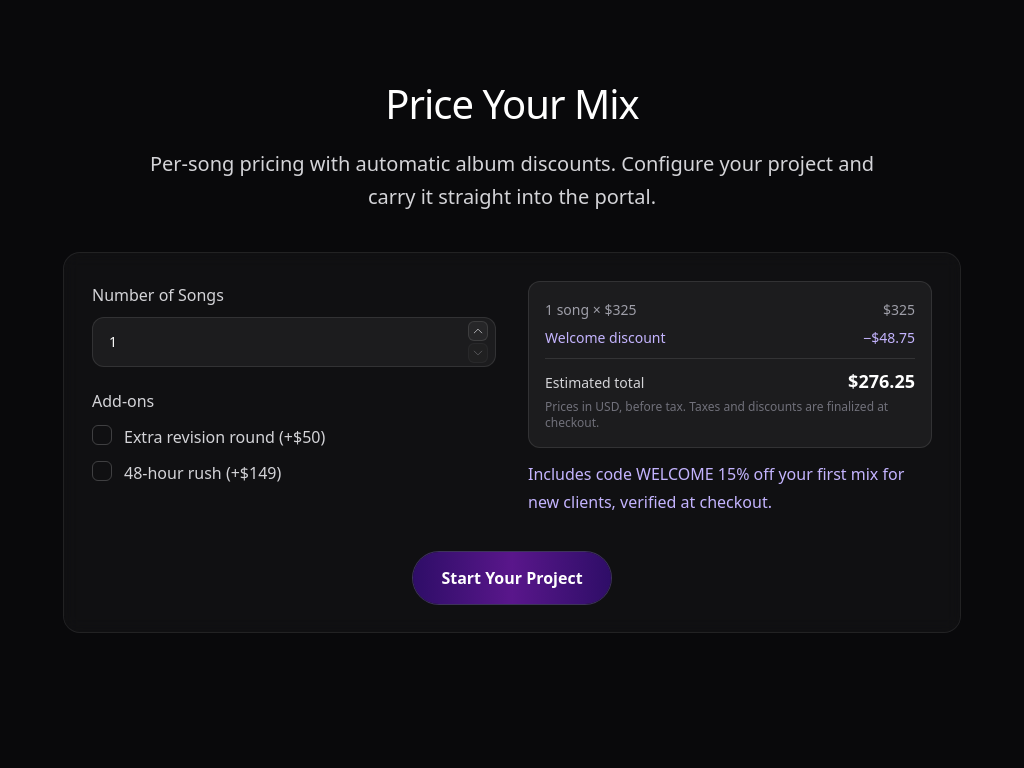
PriceCalculator › add-ons raise the quoted totals via the shared pricing module
The image size is (1024, 768).
Click the checkbox labelled "48-hour rush (+$149)": (98, 468) [91, 462, 104, 475]
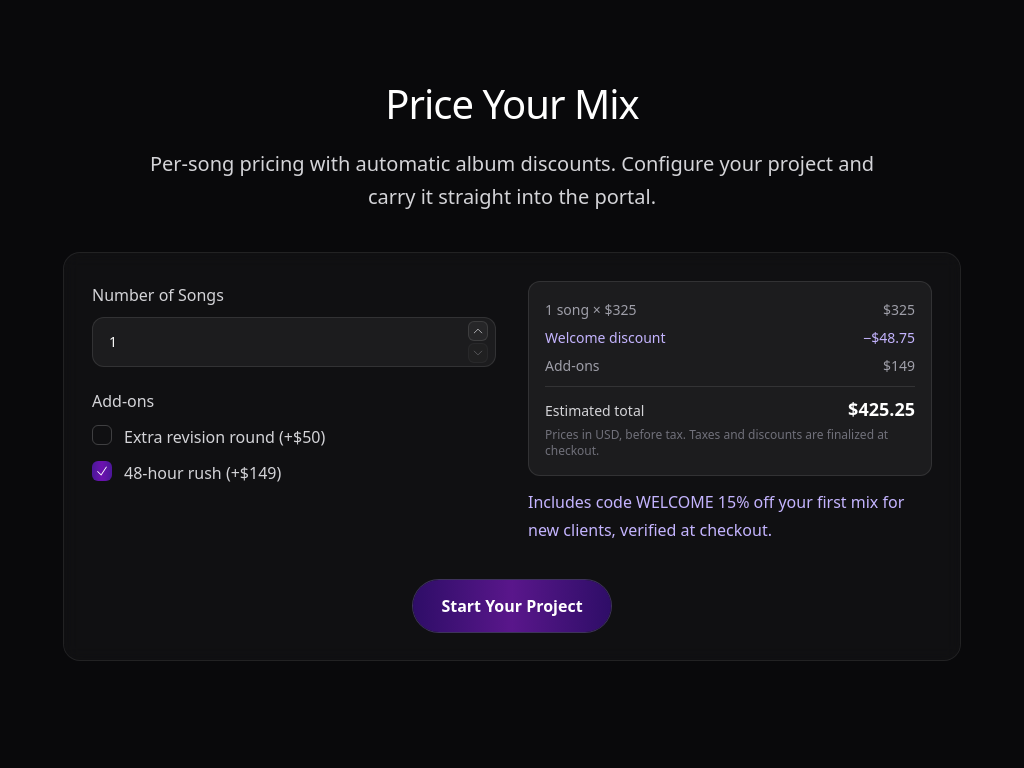
Check: the element with test id "live-quote" shows "Add-ons", box [545, 356, 600, 375]
Check: the element with test id "live-quote" shows "$149", box [883, 356, 915, 375]
